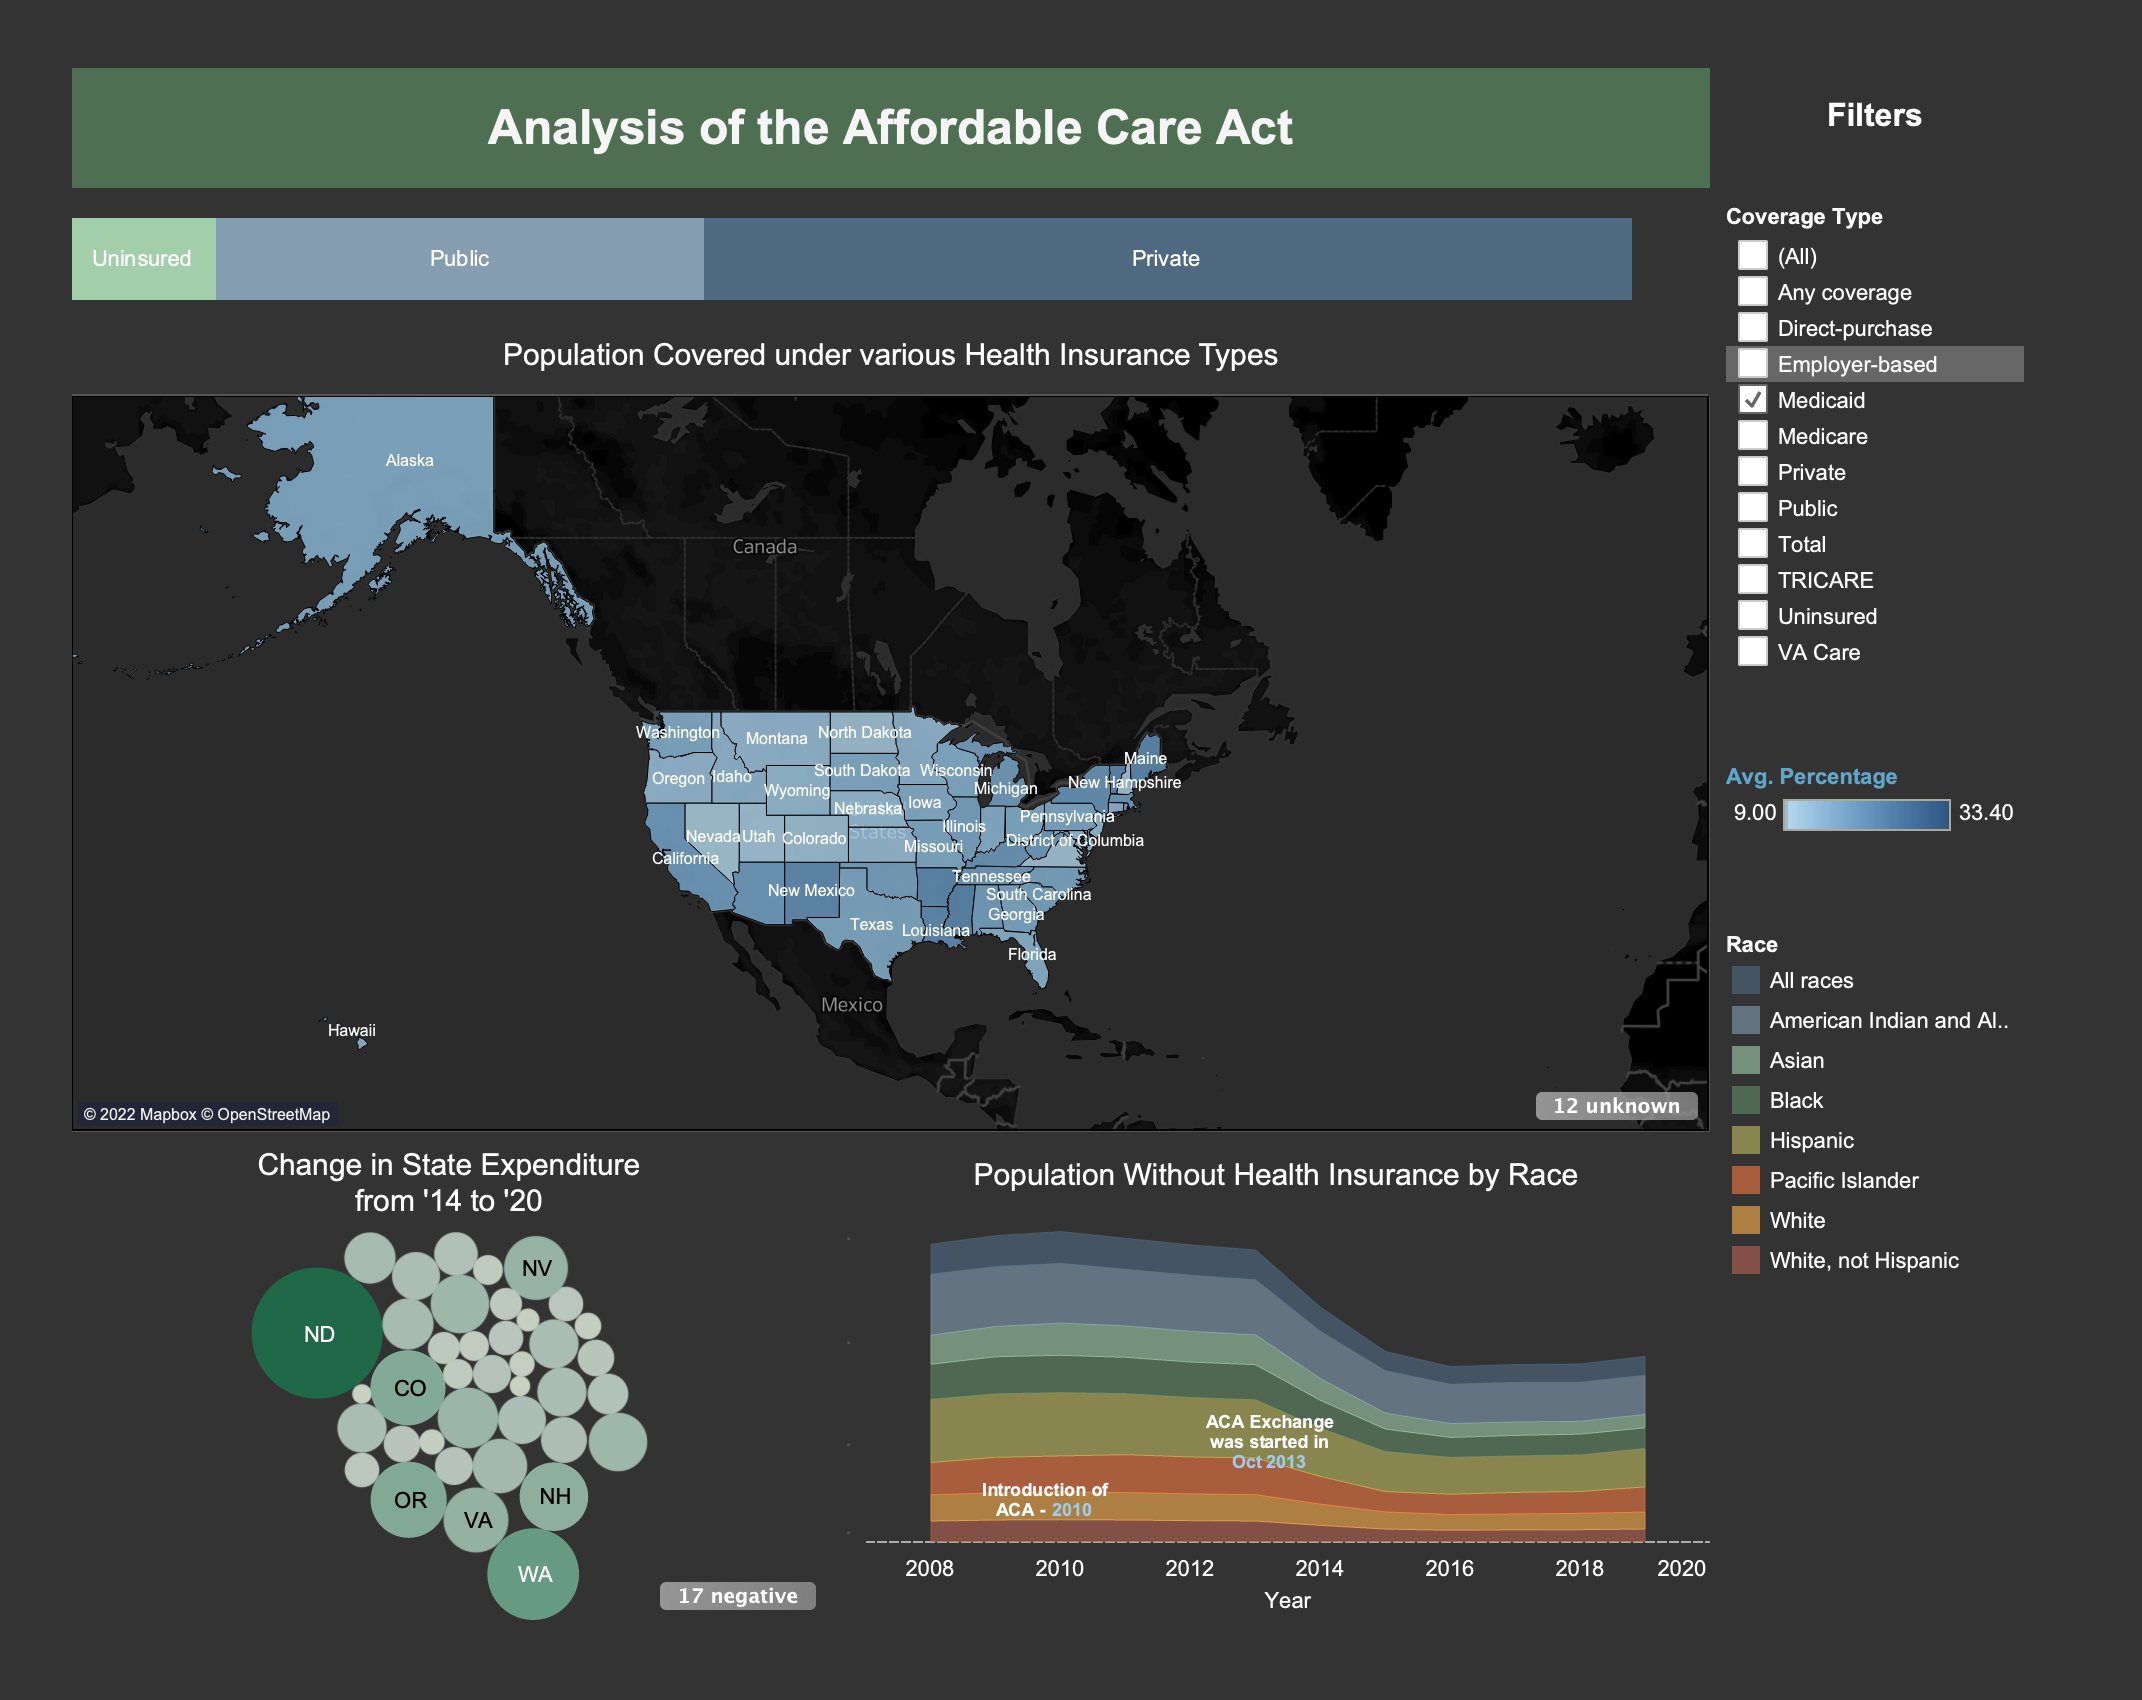

The page's visual inventory and layout, read from the dashboard file:
{"tool":"tableau","page":{"name":"Dashboard 3","canvas":[1000,800],"ordinal":0},"visuals":[{"type":"title","box":[8,8,827,68]},{"type":"text","box":[835,8,157,56]},{"type":"dashboard-object","box":[835,8,24,24]},{"type":"image","param":"Image/e5ebf9ad0b6f0fd98672f85211744a2bc612982e-4173x3345-2.jpg","box":[23,21,59,49]},{"type":"worksheet","title":"Numbers","mark":"Automatic","cols":["Percent"],"box":[8,76,827,62]},{"type":"filter","title":"Coverage","param":"[federated.1lu1ek005g8fdz149f73s03gqkdl].[none:CoverageType:nk]","box":[835,76,157,280]},{"type":"worksheet","title":"Coverage","mark":"Multipolygon","box":[8,138,827,410]},{"type":"blank","box":[463,242,333,214]},{"type":"legend","title":"Coverage","param":"[federated.1lu1ek005g8fdz149f73s03gqkdl].[avg:Percentage:qk]","box":[835,356,157,84]},{"type":"legend","title":"Race","param":"[federated.1choq9q0cgrf1114qjv7c09u3eff].[none:Race:nk]","box":[835,440,157,211]},{"type":"worksheet","title":"Expenditure","mark":"Circle","box":[8,548,385,244]},{"type":"worksheet","title":"Race","mark":"Area","rows":["Percent"],"cols":["Year"],"box":[393,548,442,244]}]}

Visuals, with their boxes in screenshot pixels (x1, y1, x2, y2), scaled from the page's 1000x800 canvas onto the 2142x1700 screenshot:
title: <box>17,17,1789,162</box>
text: <box>1789,17,2125,136</box>
dashboard-object: <box>1789,17,1840,68</box>
image: <box>49,45,176,149</box>
"Numbers" worksheet: <box>17,162,1789,293</box>
"Coverage" filter: <box>1789,162,2125,756</box>
"Coverage" worksheet (Multipolygon marks): <box>17,293,1789,1164</box>
blank: <box>992,514,1705,969</box>
"Coverage" legend: <box>1789,756,2125,935</box>
"Race" legend: <box>1789,935,2125,1383</box>
"Expenditure" worksheet (Circle marks): <box>17,1164,842,1683</box>
"Race" worksheet (Area marks): <box>842,1164,1789,1683</box>
